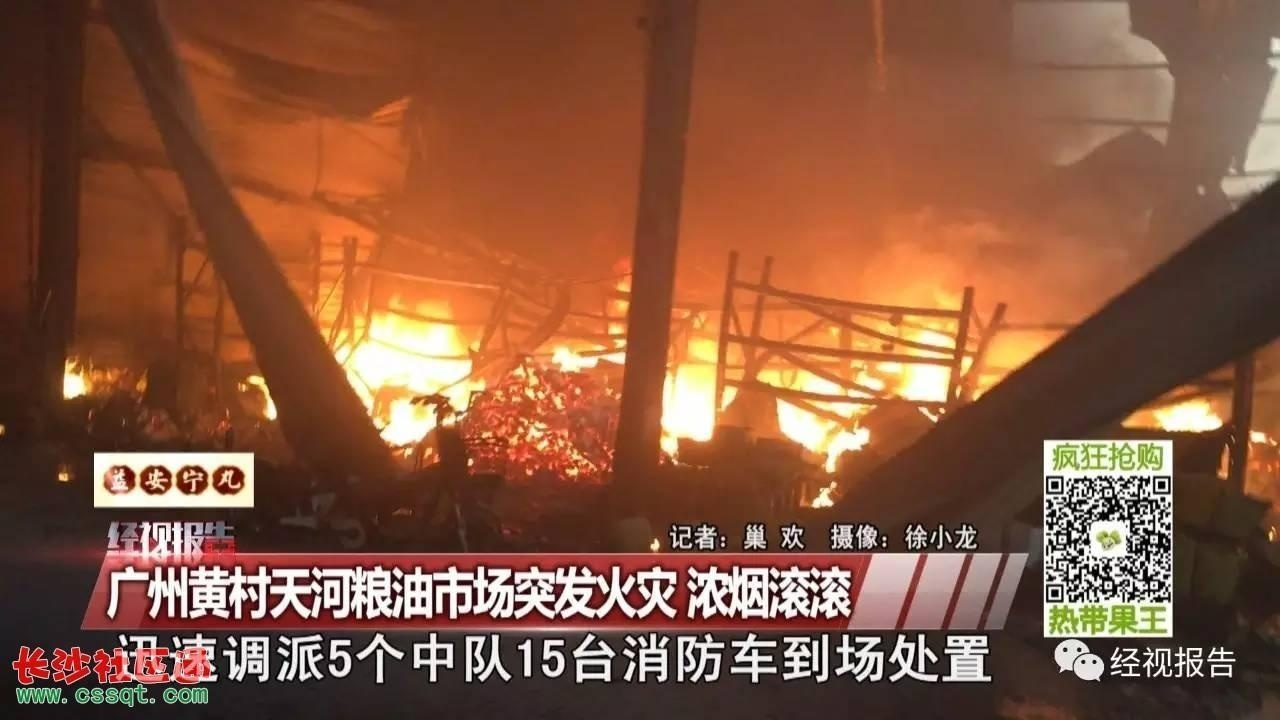fire: (329, 300, 482, 453), (874, 303, 961, 407), (770, 375, 863, 455), (657, 353, 719, 444), (1143, 391, 1225, 431), (542, 335, 623, 375), (58, 351, 114, 399), (243, 368, 280, 420)
